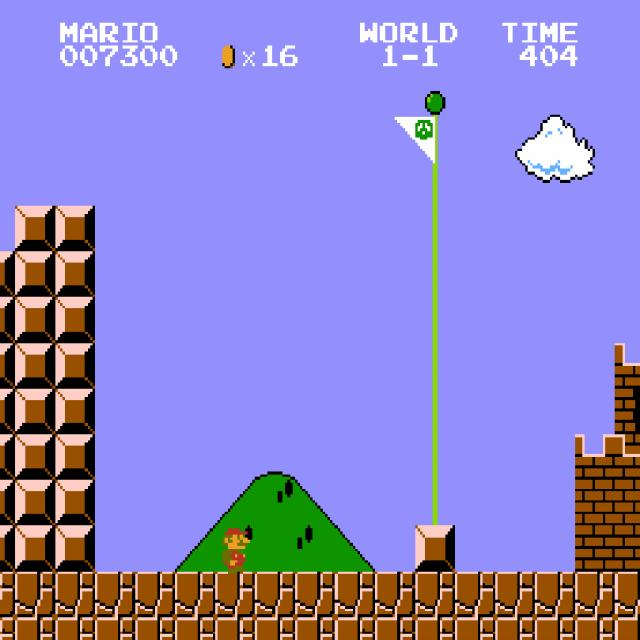goal_pole: (415, 114, 455, 160), (415, 160, 455, 206), (415, 297, 455, 343), (415, 434, 455, 480), (415, 480, 455, 526), (415, 69, 455, 114), (415, 206, 455, 251), (415, 252, 455, 297), (415, 343, 455, 388), (415, 389, 455, 434)
hard_block: (15, 297, 55, 343), (15, 434, 55, 480), (15, 480, 55, 526), (55, 297, 95, 343), (55, 434, 95, 480), (55, 480, 95, 526), (15, 206, 55, 251), (15, 252, 55, 297), (15, 343, 55, 388), (15, 389, 55, 434), (15, 526, 55, 571), (55, 206, 95, 251), (55, 252, 95, 297), (55, 343, 95, 388), (55, 389, 95, 434), (55, 526, 95, 571), (415, 526, 455, 571), (0, 297, 15, 343), (0, 434, 15, 480), (0, 480, 15, 526), (0, 252, 15, 297), (0, 343, 15, 388), (0, 389, 15, 434), (0, 526, 15, 571)
little_mario: (213, 526, 255, 574)
undestructible_block: (15, 572, 55, 617), (55, 572, 95, 617), (95, 572, 135, 617), (135, 572, 175, 617), (175, 572, 215, 617), (215, 572, 255, 617), (255, 572, 295, 617), (295, 572, 335, 617), (335, 572, 375, 617), (375, 572, 415, 617), (415, 572, 455, 617), (455, 572, 495, 617), (495, 572, 535, 617), (535, 572, 575, 617), (575, 572, 615, 617), (614, 571, 640, 617), (15, 617, 55, 640), (55, 617, 95, 640), (95, 617, 135, 640), (135, 617, 175, 640), (175, 617, 215, 640), (215, 617, 255, 640), (255, 617, 295, 640), (295, 617, 335, 640), (335, 617, 375, 640), (375, 617, 415, 640), (415, 617, 455, 640), (455, 617, 495, 640), (495, 617, 535, 640), (535, 617, 575, 640), (575, 617, 615, 640), (0, 572, 15, 617), (614, 617, 640, 639), (0, 617, 15, 640)
